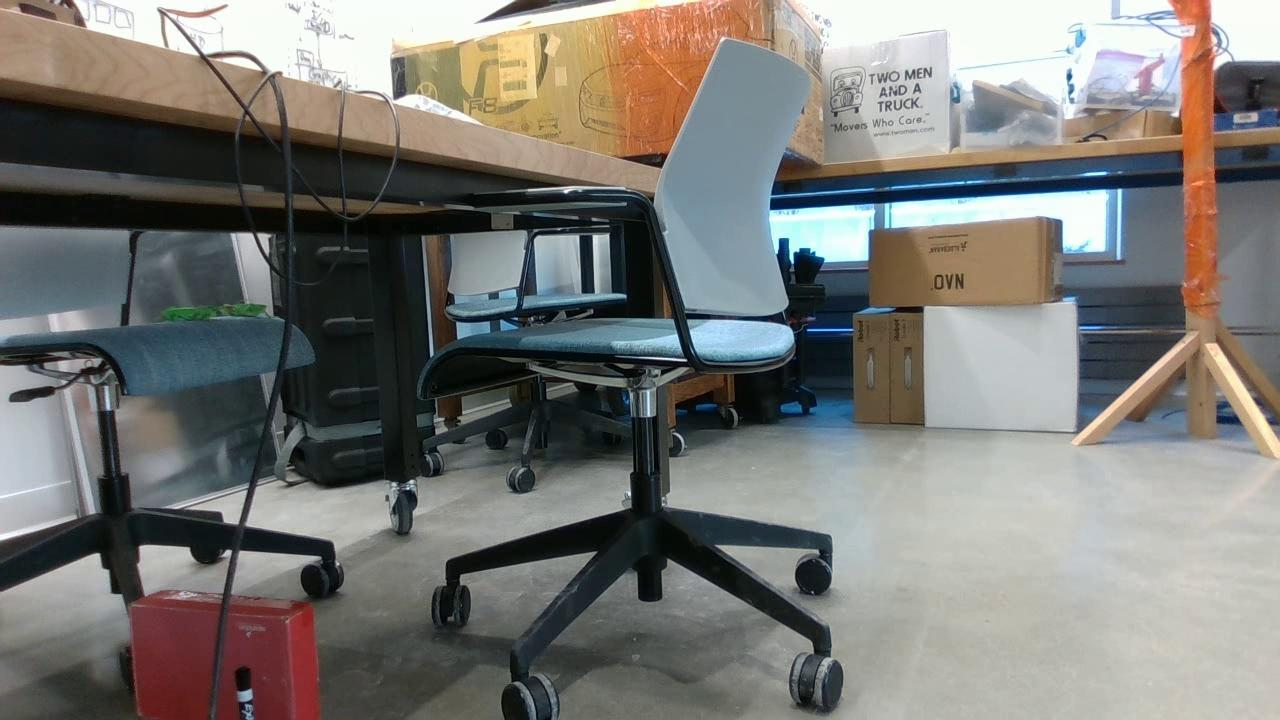grasshopper: (214, 303, 273, 318), (163, 307, 218, 321)
